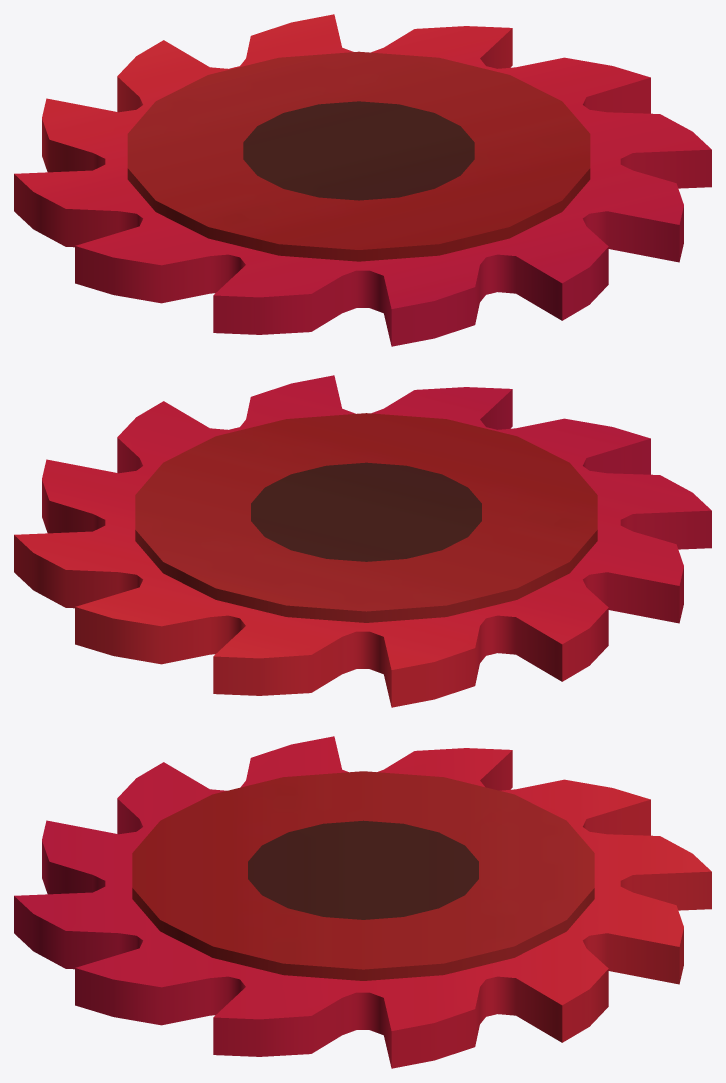
Rendered from Props-ElectricSaw-ElectricSaw.glb.
3 renders of one model, top to bottom at view 1: azimuth 30°, elevation 25°; view 2: azimuth 150°, elevation 25°; view 3: azimuth 270°, elevation 25°, orthographic.
Parts seen in each view (by area): view 1: Props-ElectricSaw-ElectricSaw; view 2: Props-ElectricSaw-ElectricSaw; view 3: Props-ElectricSaw-ElectricSaw.
Part boxes in pixels (x1,y1,x2,y2): Props-ElectricSaw-ElectricSaw: (14, 14, 711, 346); Props-ElectricSaw-ElectricSaw: (14, 375, 711, 707); Props-ElectricSaw-ElectricSaw: (14, 736, 711, 1068).
Size of the model in its own units: 2.27 by 0.1768 by 2.27.
Materials: 1 (1 with a texture image).
